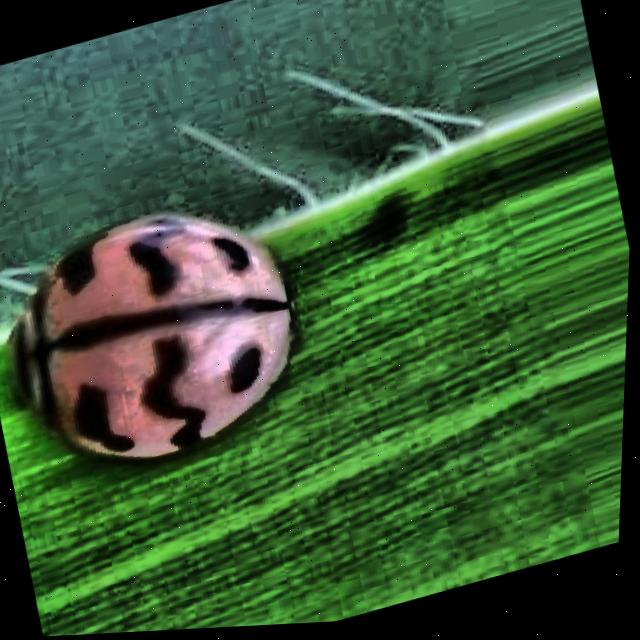Asian-Lady-beetle: (0, 54, 436, 564)
